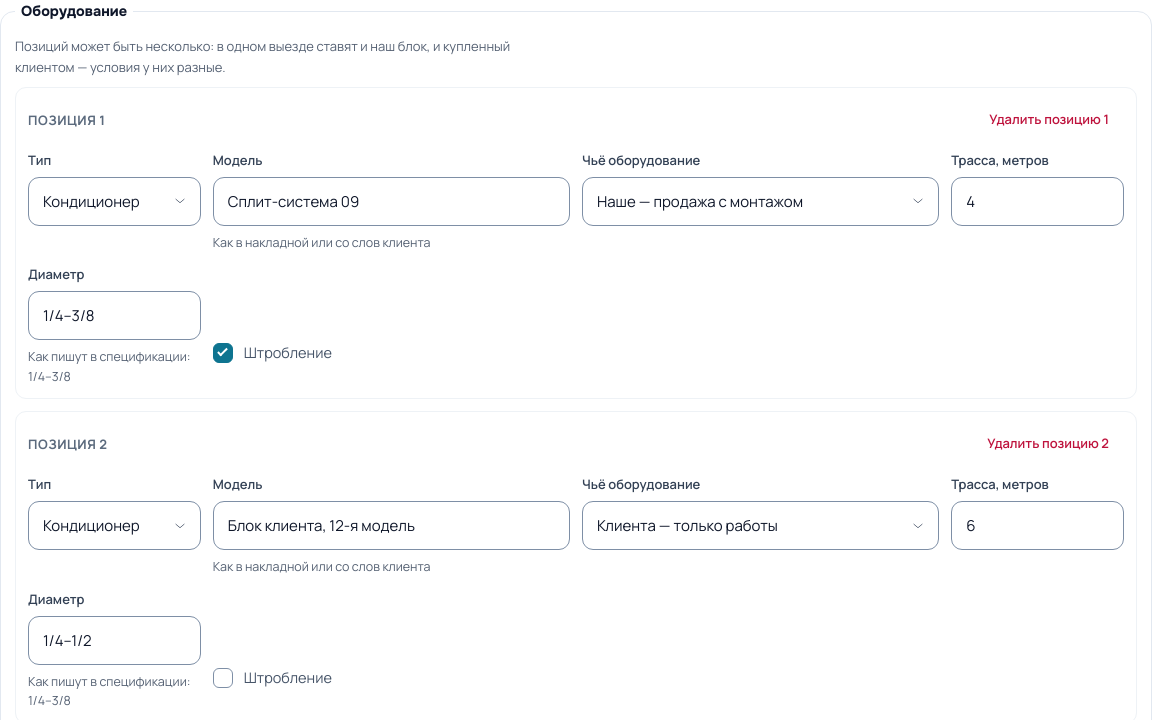
Test: Позиции оборудования › 🔴 удаляет ту позицию, на которой нажали, а не соседнюю
Click the button "Удалить позицию 1". click: x=1049, y=120
box: [974, 100, 1124, 140]
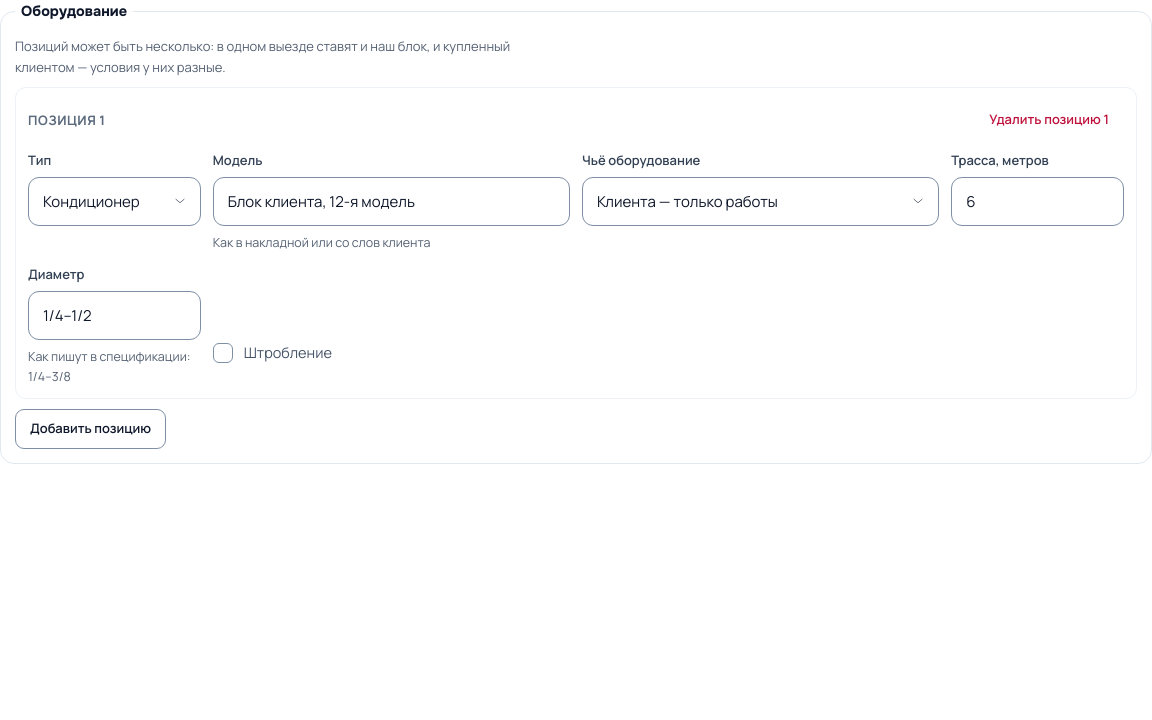
Expected: the field labelled "Модель" holds "Блок клиента, 12-я модель", [213, 177, 570, 226]
Result: the number of list items is 1 at [15, 87, 1137, 399]
